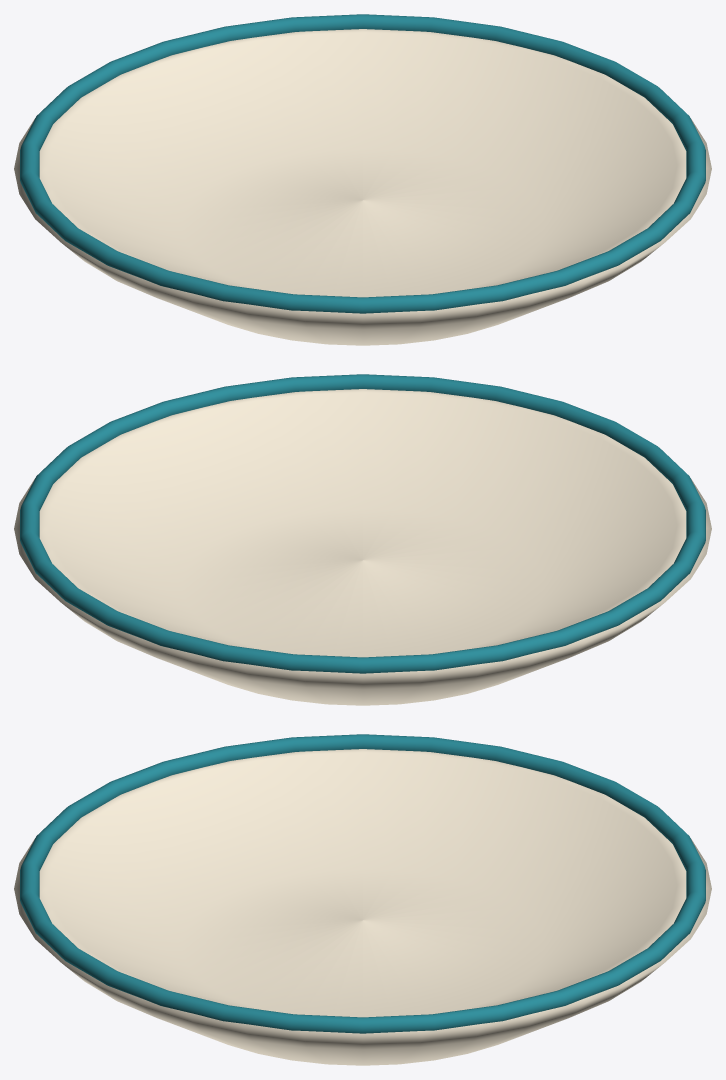
Rendered from home_tool_bowl.glb.
The picture shows the model from 3 angles, top to bottom: view 1: azimuth 30°, elevation 25°; view 2: azimuth 150°, elevation 25°; view 3: azimuth 270°, elevation 25°; orthographic projection.
Bounding box in the file's own units: 1 × 0.159 × 1.
